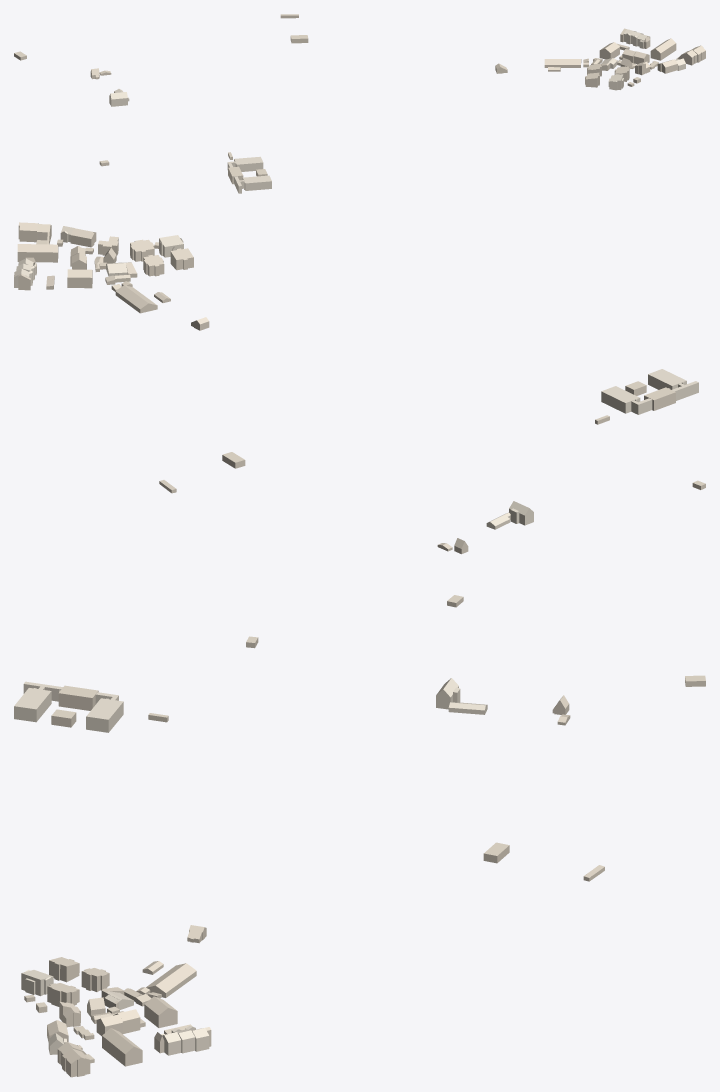
The picture shows the model from 3 angles, top to bottom: view 1: azimuth 30°, elevation 25°; view 2: azimuth 150°, elevation 25°; view 3: azimuth 270°, elevation 25°; orthographic projection. The views are drawn at different scales.
Bounding box in the file's own units: 647 × 28.25 × 415.
